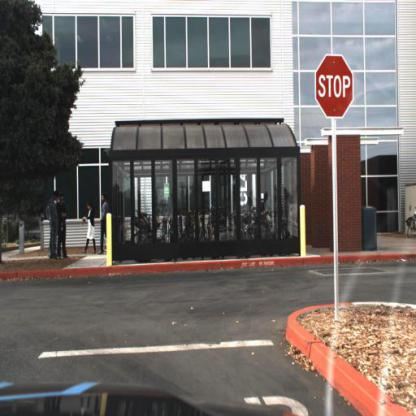pedestrian: (100, 193, 113, 258), (57, 193, 69, 262), (59, 194, 71, 262), (84, 200, 97, 258), (48, 191, 59, 259), (100, 192, 110, 257)
